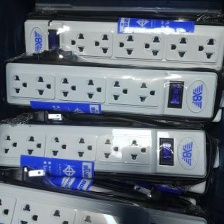three_eye_plug: (2, 59, 220, 121), (0, 119, 210, 183), (18, 14, 224, 73), (0, 175, 209, 224)
